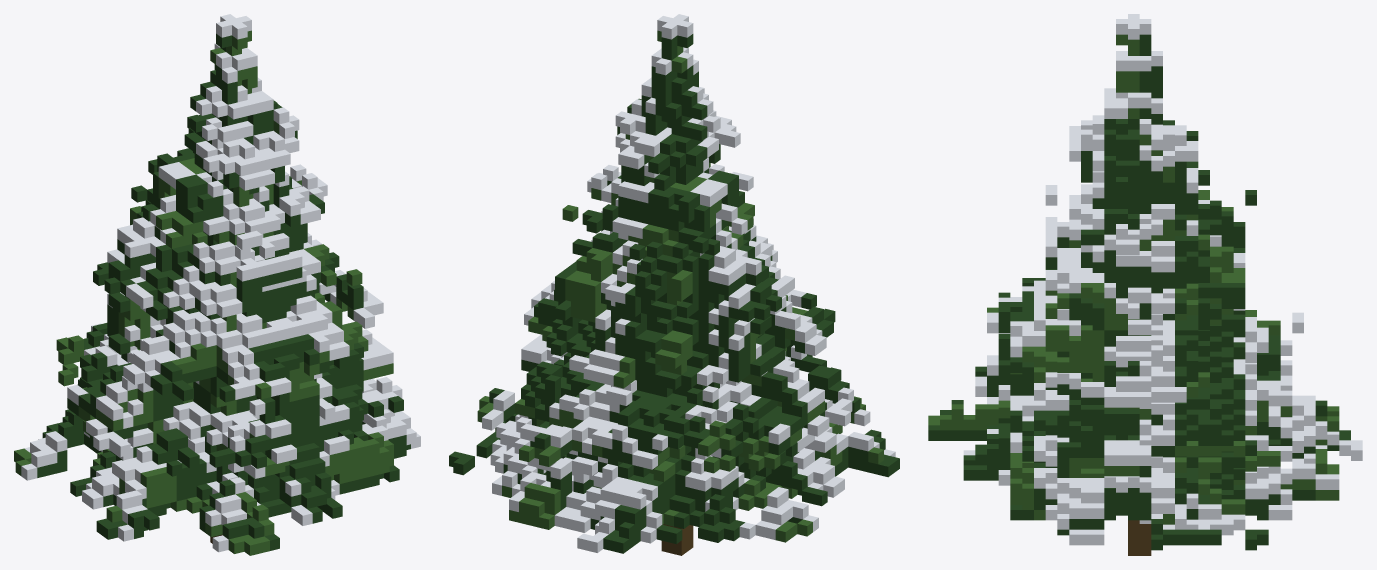
File: tree_alpine_2.obj
The picture shows the model from 3 angles, left to right: view 1: azimuth 30°, elevation 25°; view 2: azimuth 150°, elevation 25°; view 3: azimuth 270°, elevation 25°; orthographic projection.
Bounding box in the file's own units: 2.55 × 3.75 × 2.78.
Materials: 1 (1 with a texture image).
